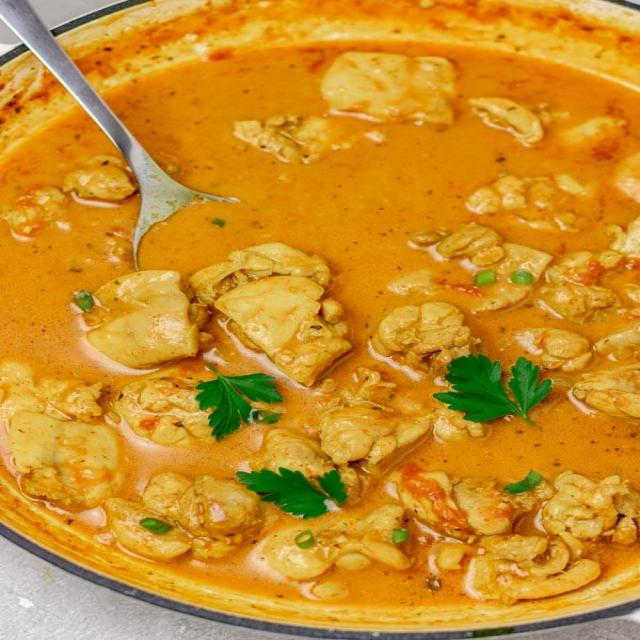chicken: (18, 42, 640, 608)
